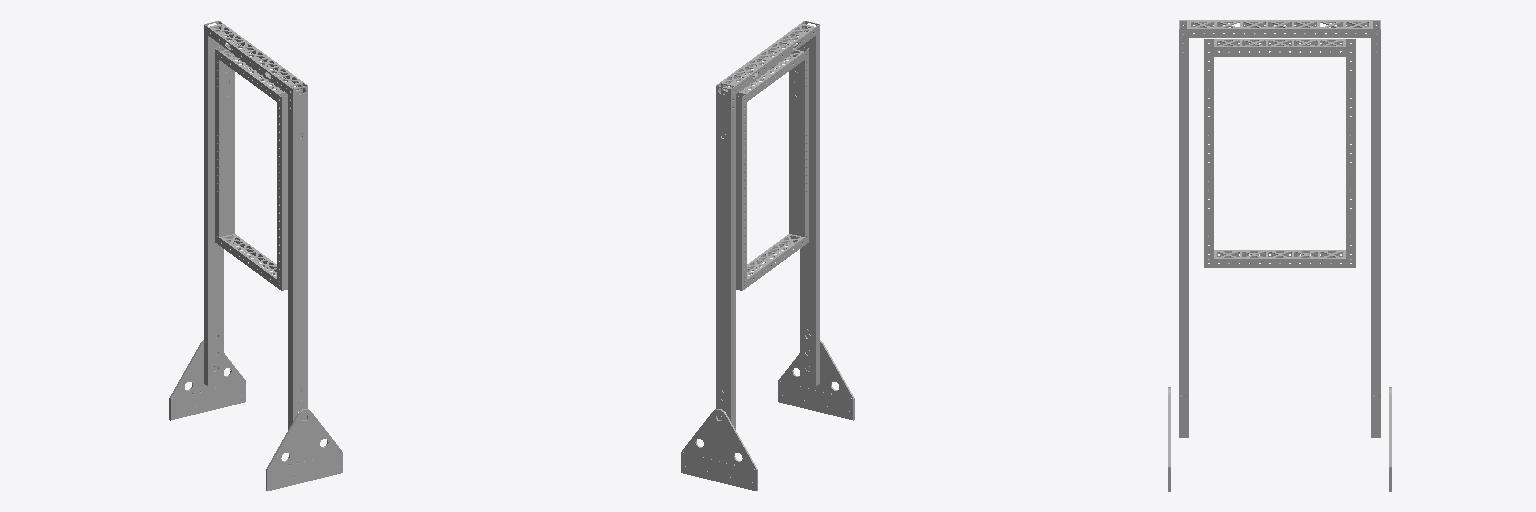
robot.urdf — knighttime_description:
<?xml version="1.0" encoding="utf-8"?>
<!-- This URDF was automatically created by SolidWorks to URDF Exporter! Originally created by [author] ([email redacted]) 
     Commit Version: 1.6.0-4-g7f85cfe  Build Version: 1.6.7995.38578
     For more information, please see http://wiki.ros.org/sw_urdf_exporter -->
<robot
  name="knighttime_description">
  <link
    name="base_link">
    <inertial>
      <origin
        xyz="-4.16447055162402E-17 6.55581426343069E-17 0.126710454365849"
        rpy="0 0 0" />
      <mass
        value="1.27012028561213" />
      <inertia
        ixx="0.00407454547284583"
        ixy="1.70217144461307E-20"
        ixz="2.00721692769744E-05"
        iyy="0.00877718974084694"
        iyz="2.16369115604361E-20"
        izz="0.00471118000553721" />
    </inertial>
    <visual>
      <origin
        xyz="0 0 0"
        rpy="0 0 0" />
      <geometry>
        <mesh
          filename="package://knighttime_description/meshes/base_link.STL" />
      </geometry>
      <material
        name="">
        <color
          rgba="0.752941176470588 0.752941176470588 0.752941176470588 1" />
      </material>
    </visual>
    <collision>
      <origin
        xyz="0 0 0"
        rpy="0 0 0" />
      <geometry>
        <mesh
          filename="package://knighttime_description/meshes/base_link.STL" />
      </geometry>
    </collision>
  </link>
  <link
    name="main_mast">
    <inertial>
      <origin
        xyz="-2.69904669733839E-05 -9.99896965886688E-07 0.522377111502143"
        rpy="0 0 0" />
      <mass
        value="2.93521012462161" />
      <inertia
        ixx="0.27622236196956"
        ixy="2.66165269670605E-10"
        ixz="-0.000104045614467622"
        iyy="0.271514723325184"
        iyz="-1.14857392516794E-06"
        izz="0.00662016432728772" />
    </inertial>
    <visual>
      <origin
        xyz="0 0 0"
        rpy="0 0 0" />
      <geometry>
        <mesh
          filename="package://knighttime_description/meshes/main_mast.STL" />
      </geometry>
      <material
        name="">
        <color
          rgba="0.752941176470588 0.752941176470588 0.752941176470588 1" />
      </material>
    </visual>
    <collision>
      <origin
        xyz="0 0 0"
        rpy="0 0 0" />
      <geometry>
        <mesh
          filename="package://knighttime_description/meshes/main_mast.STL" />
      </geometry>
    </collision>
  </link>
  <joint
    name="base_link_to_main_mast"
    type="continuous">
    <origin
      xyz="0 0 0.24511"
      rpy="0 0 0" />
    <parent
      link="base_link" />
    <child
      link="main_mast" />
    <axis
      xyz="0 1 0" />
  </joint>
  <link
    name="second_stage">
    <inertial>
      <origin
        xyz="-3.54992298224833E-16 2.22485749511977E-16 -0.20537398340882"
        rpy="0 0 0" />
      <mass
        value="0.836825875518592" />
      <inertia
        ixx="0.0207383995013211"
        ixy="-2.4071703608376E-18"
        ixz="6.5182228435467E-18"
        iyy="0.0187889584740115"
        iyz="3.10142844521603E-19"
        izz="0.00256143928759479" />
    </inertial>
    <visual>
      <origin
        xyz="0 0 0"
        rpy="0 0 0" />
      <geometry>
        <mesh
          filename="package://knighttime_description/meshes/second_stage.STL" />
      </geometry>
      <material
        name="">
        <color
          rgba="0.752941176470588 0.752941176470588 0.752941176470588 1" />
      </material>
    </visual>
    <collision>
      <origin
        xyz="0 0 0"
        rpy="0 0 0" />
      <geometry>
        <mesh
          filename="package://knighttime_description/meshes/second_stage.STL" />
      </geometry>
    </collision>
  </link>
  <joint
    name="main_mast_to_second_stage"
    type="continuous">
    <origin
      xyz="0 0 0.8763"
      rpy="0 0 0" />
    <parent
      link="main_mast" />
    <child
      link="second_stage" />
    <axis
      xyz="0 1 0" />
  </joint>
</robot>

--- Render facts (derived) ---
The picture shows the robot from 3 angles, left to right: view 1: azimuth 30°, elevation 25°; view 2: azimuth 150°, elevation 25°; view 3: azimuth 270°, elevation 25°; orthographic projection.
Model knighttime_description with 3 links and 2 joints (2 continuous), rooted at base_link, posed all joints at 0.
Links seen in each view (by area): view 1: main_mast, second_stage, base_link; view 2: main_mast, second_stage, base_link; view 3: main_mast, second_stage, base_link.
Boxes of the visible links, bbox=[...] form: main_mast: bbox=[204, 21, 307, 429]; second_stage: bbox=[215, 46, 287, 290]; base_link: bbox=[169, 340, 342, 490]; main_mast: bbox=[716, 21, 819, 429]; second_stage: bbox=[736, 46, 808, 290]; base_link: bbox=[681, 340, 854, 490]; main_mast: bbox=[1179, 20, 1380, 437]; second_stage: bbox=[1204, 39, 1355, 267]; base_link: bbox=[1168, 387, 1391, 491].
Size in the robot's own frame: 0.2476 by 0.5588 by 1.23 metres.
3 mesh visuals loaded from 3 distinct referenced files (3 binary STL).